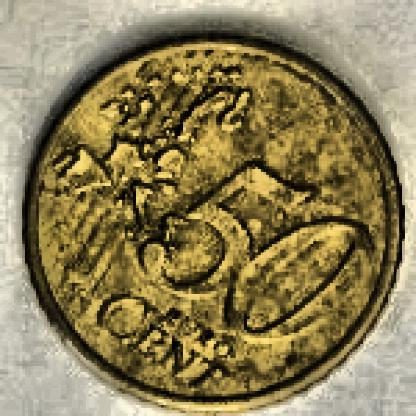coin: (17, 36, 406, 415)
